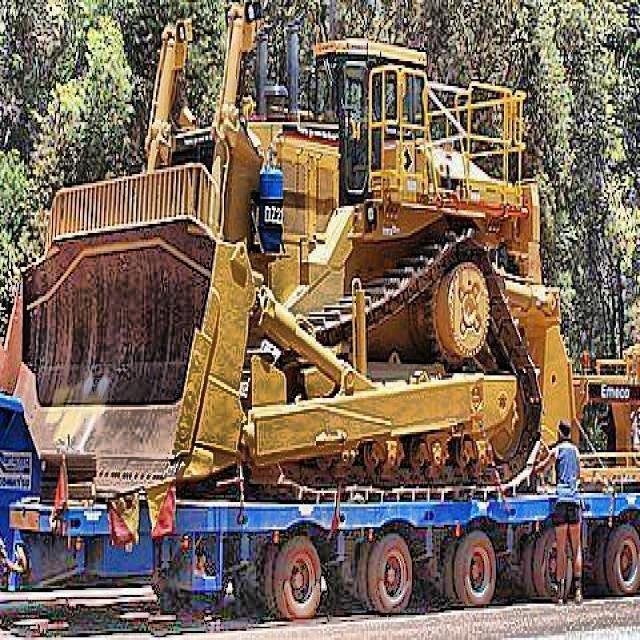bull_dozer/loader/grader: (8, 9, 591, 527)
